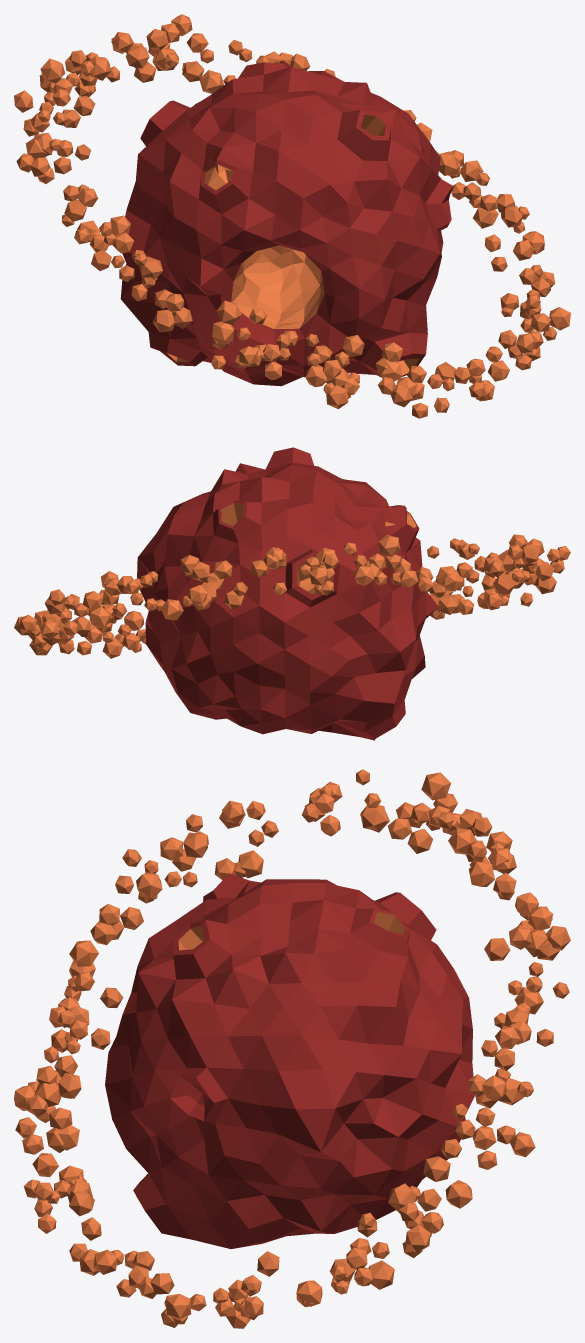
File: RAS_Planet.fbx
The picture shows the model from 3 angles, top to bottom: view 1: azimuth 30°, elevation 25°; view 2: azimuth 150°, elevation 25°; view 3: azimuth 270°, elevation 25°; orthographic projection. The views are drawn at different scales.
Parts seen in each view (by area): view 1: RAS_Planet, Asteroids; view 2: RAS_Planet, Asteroids; view 3: RAS_Planet, Asteroids.
Boxes of the visible parts, x1,y1,x2,y2 form: RAS_Planet: (120,60,452,386); Asteroids: (14,14,570,418); RAS_Planet: (137,447,438,740); Asteroids: (14,534,570,658); RAS_Planet: (105,873,474,1248); Asteroids: (14,769,570,1328).
Bounding box in the file's own units: 1945 × 1091 × 1576.
1 material, 1 textured.
